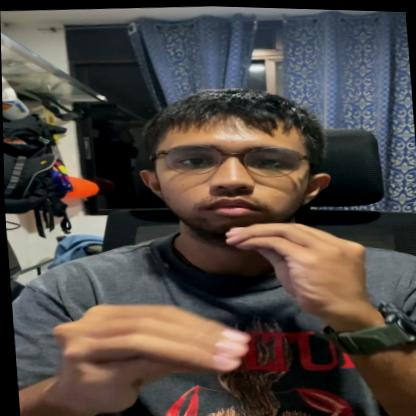Fix: (4, 200, 397, 415)
